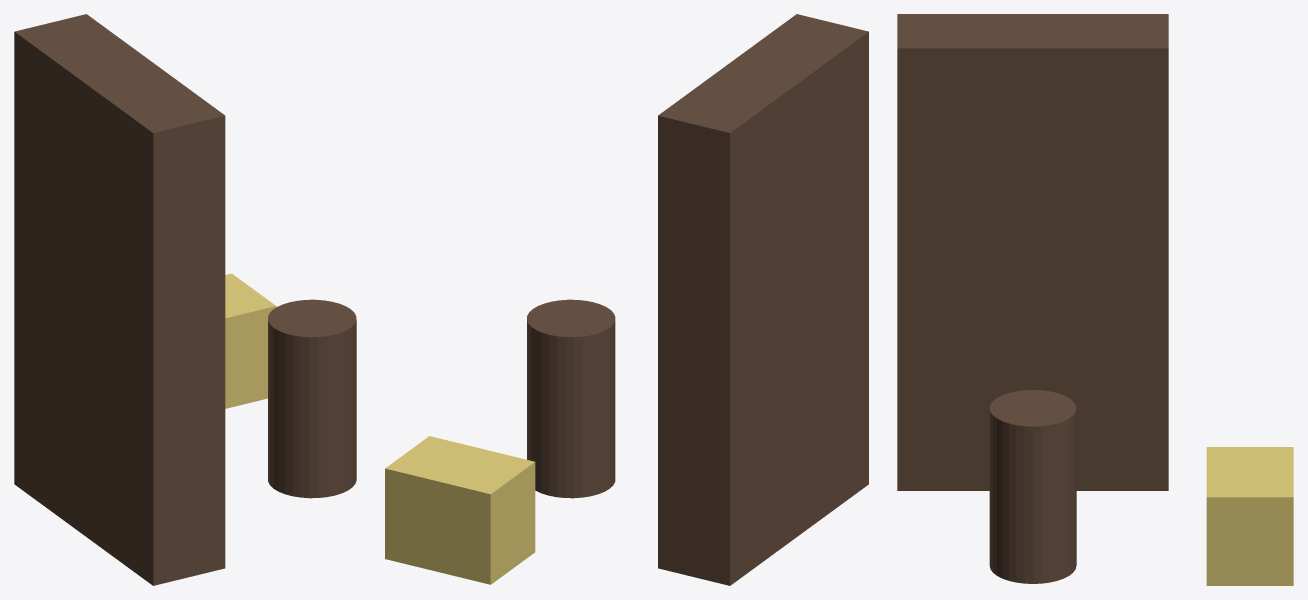
The model's file is prop_secret_room.fbx.
The picture shows the model from 3 angles, left to right: view 1: azimuth 30°, elevation 25°; view 2: azimuth 150°, elevation 25°; view 3: azimuth 270°, elevation 25°; orthographic projection. The views are drawn at different scales.
Visible parts, largest first — view 1: SecretBookshelf, LorePedestal, TreasureChest; view 2: SecretBookshelf, TreasureChest, LorePedestal; view 3: SecretBookshelf, LorePedestal, TreasureChest.
Boxes of the visible parts, bbox=[...] form: SecretBookshelf: bbox=[14, 14, 225, 585]; LorePedestal: bbox=[268, 299, 356, 498]; TreasureChest: bbox=[225, 273, 276, 408]; SecretBookshelf: bbox=[658, 14, 868, 585]; TreasureChest: bbox=[385, 436, 535, 584]; LorePedestal: bbox=[527, 299, 615, 498]; SecretBookshelf: bbox=[897, 14, 1168, 490]; LorePedestal: bbox=[989, 390, 1076, 583]; TreasureChest: bbox=[1206, 447, 1293, 585].
Bounding box in the file's own units: 5.85 × 9 × 7.3.
